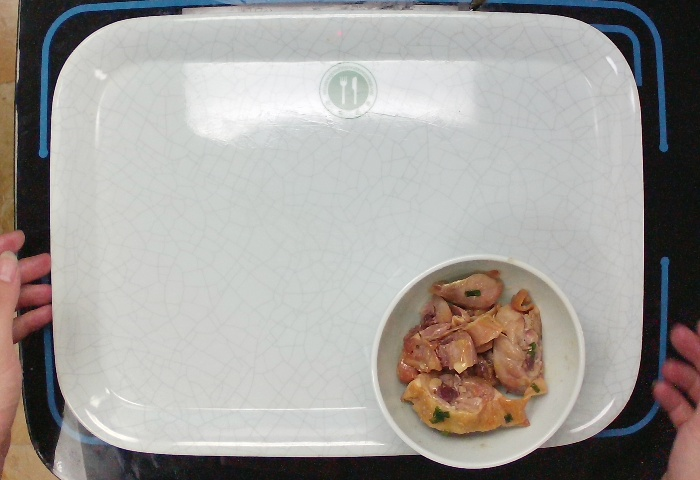JYsf-Fan_Wan: (368, 252, 587, 470)
